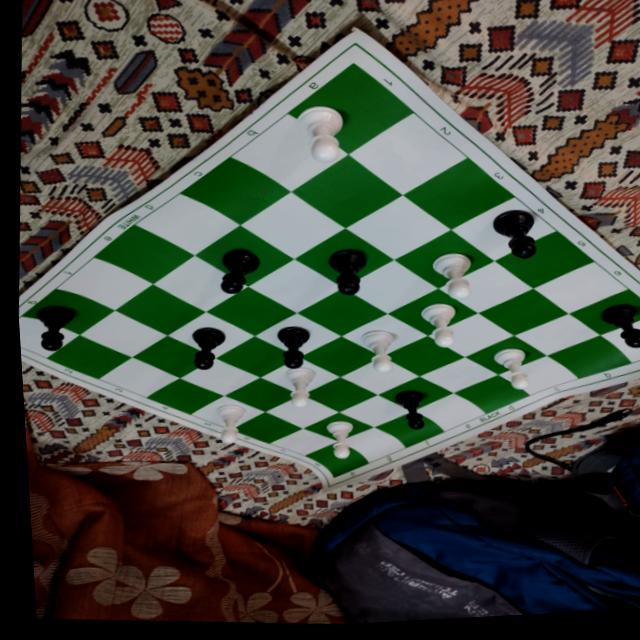board: (19, 31, 640, 486)
square: (287, 63, 413, 154), (348, 112, 467, 195), (230, 113, 347, 191), (402, 157, 514, 230), (291, 154, 402, 227), (179, 157, 290, 224), (240, 191, 346, 259), (450, 196, 556, 261), (345, 195, 451, 260), (134, 193, 239, 255), (92, 224, 194, 284), (195, 225, 293, 286), (395, 229, 494, 288), (294, 228, 393, 287), (494, 231, 593, 289), (152, 255, 248, 311), (248, 258, 344, 312), (55, 257, 152, 310), (344, 259, 438, 313), (531, 261, 628, 313), (437, 261, 532, 313), (114, 285, 205, 335), (206, 287, 297, 335), (296, 288, 387, 336), (477, 288, 567, 335), (21, 289, 114, 334), (79, 310, 168, 357), (388, 288, 477, 335), (167, 311, 254, 358), (253, 313, 341, 357), (427, 312, 513, 357), (340, 314, 428, 357), (46, 335, 130, 378), (547, 335, 631, 378), (513, 313, 599, 355), (132, 335, 215, 378), (216, 336, 299, 377), (299, 336, 382, 377), (98, 356, 179, 397), (381, 336, 463, 376), (569, 289, 640, 335), (497, 355, 578, 395), (464, 335, 546, 374), (260, 356, 339, 395), (339, 357, 418, 395), (179, 358, 259, 395), (453, 375, 528, 413), (412, 393, 486, 431), (146, 378, 224, 414), (418, 357, 497, 392), (300, 377, 377, 412), (378, 376, 453, 411), (224, 377, 301, 411), (264, 394, 339, 428), (374, 411, 444, 447), (190, 396, 264, 430), (338, 394, 413, 427), (19, 316, 79, 357), (336, 427, 406, 462), (304, 441, 368, 477), (231, 411, 302, 443), (302, 412, 373, 441), (268, 428, 337, 455), (600, 320, 640, 362)
